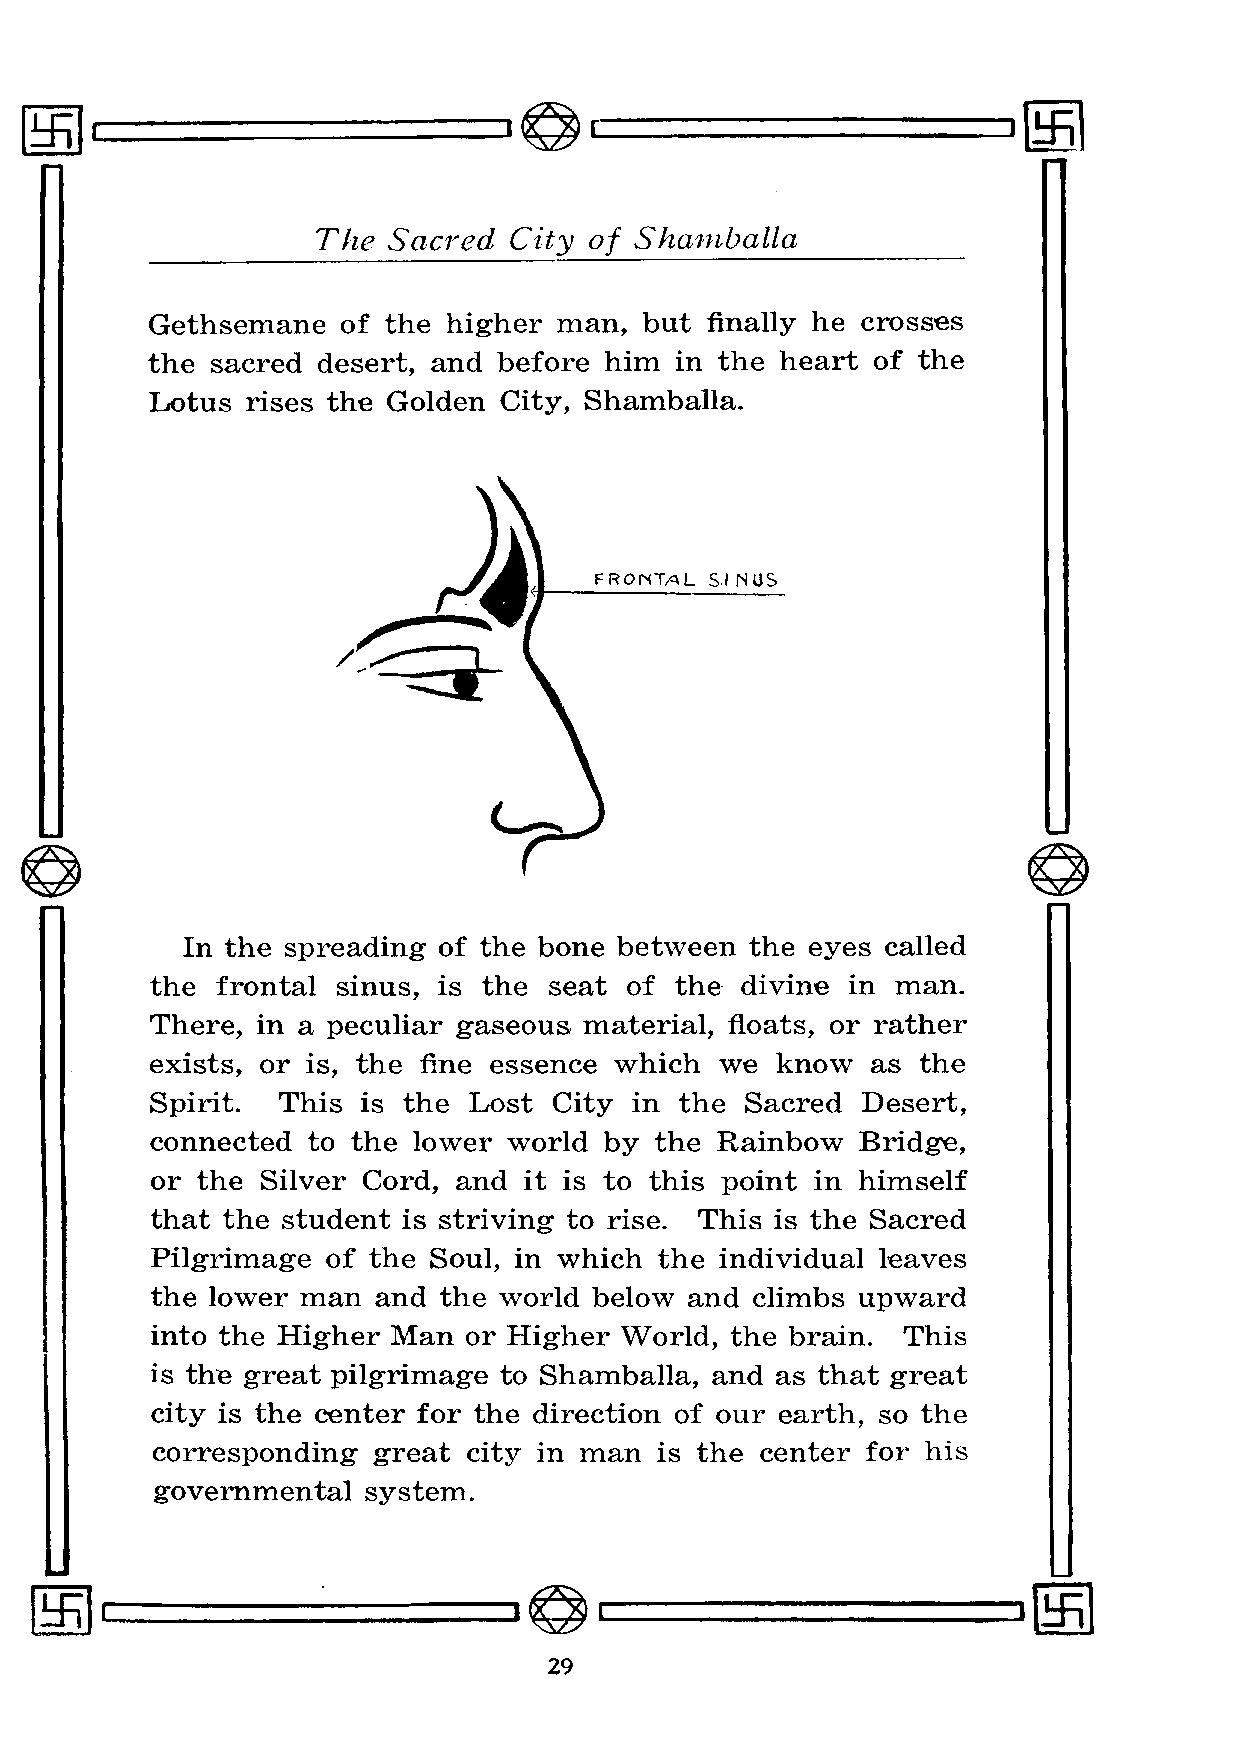chapter: (311, 221, 801, 258)
content: (146, 309, 972, 1508)
content_pagenumber: (542, 1655, 574, 1676)
